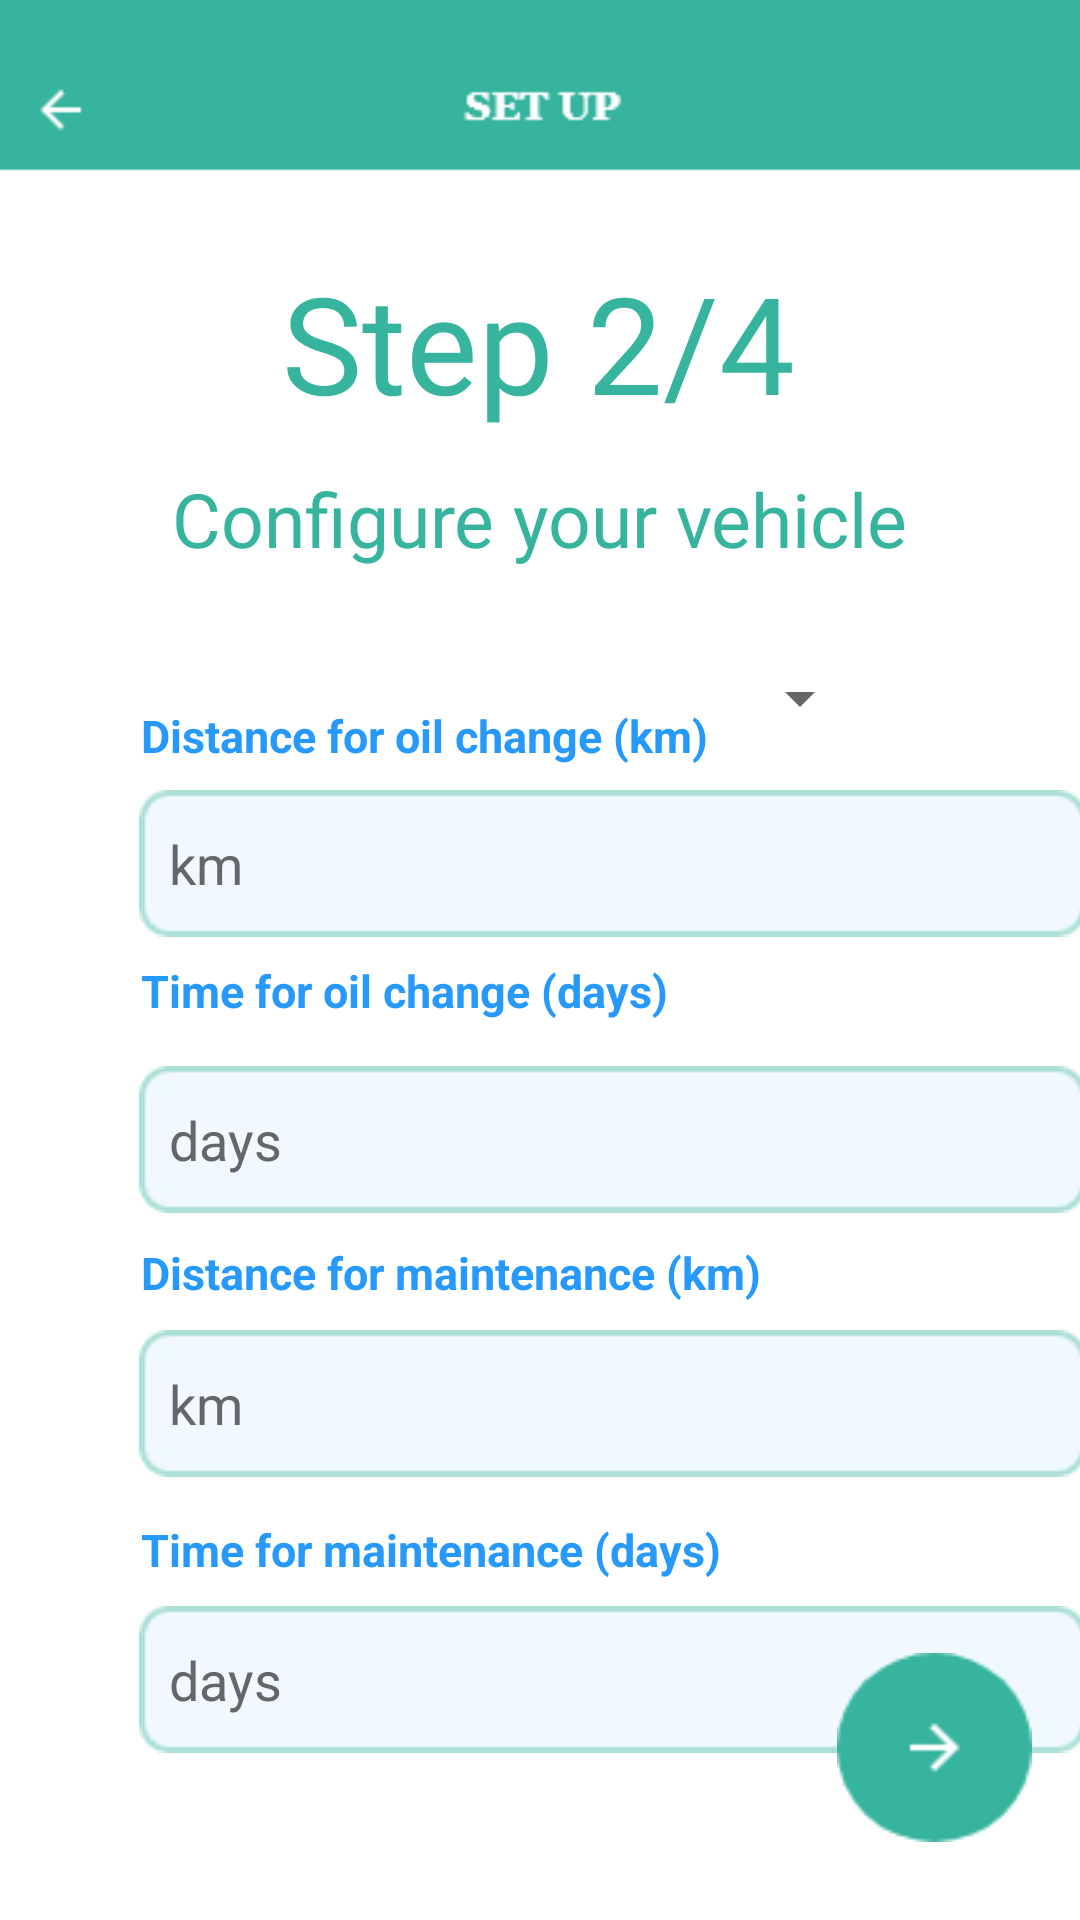

Screen size 1080 x 1920. Icon name, then its center in pixels as point (x, y):
next: point (934, 1747)
